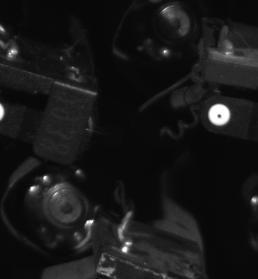fiber: (203, 101, 236, 129)
